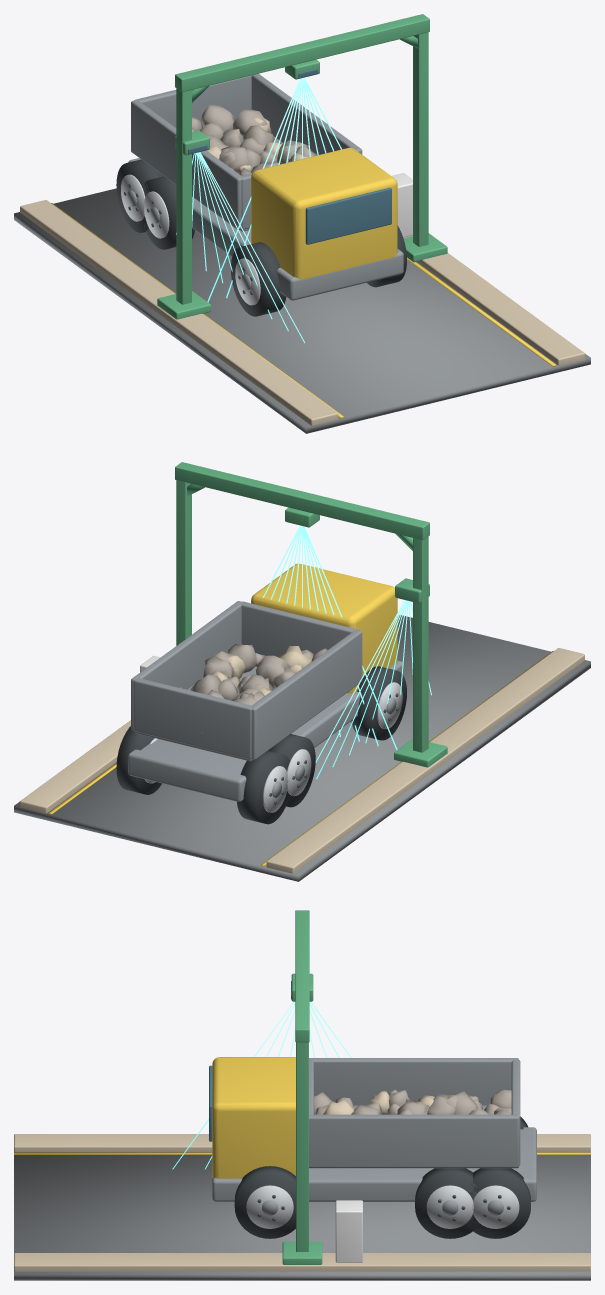
Rendered from truck-cargo-volume-estimation.glb.
The picture shows the model from 3 angles, top to bottom: view 1: azimuth 30°, elevation 25°; view 2: azimuth 150°, elevation 25°; view 3: azimuth 270°, elevation 25°; orthographic projection.
Visible parts, largest first — view 1: Road, Cab_0019, Curb_0002, Crossbeam_0012, Sidewall_0112, Curb_0004, Chassis_0018, Sidewall_0113, Upright_0010, Upright_0007, Windshield_0020, Endwall_0115 (+11 smaller); view 2: Road, Curb_0002, Cab_0019, Chassis_0018, Endwall_0115, Sidewall_0112, Crossbeam_0012, Sidewall_0113, Endwall_0114, Upright_0007, Curb_0004, Upright_0010 (+9 smaller); view 3: Road, Sidewall_0113, Curb_0004, Cab_0019, Sidewall_0112, Chassis_0018, Curb_0002, Upright_0010, Tire_0066, Tire_0081, Tire_0096, Crossbeam_0012 (+7 smaller).
Part boxes in pixels (box(x1,y1,x2,y2)): Road: box(14, 188, 590, 433); Cab_0019: box(251, 147, 397, 279); Curb_0002: box(20, 200, 338, 425); Crossbeam_0012: box(175, 14, 429, 92); Sidewall_0112: box(131, 100, 241, 229); Curb_0004: box(403, 235, 584, 365); Chassis_0018: box(128, 158, 403, 300); Sidewall_0113: box(251, 73, 362, 154); Upright_0010: box(413, 32, 428, 246); Upright_0007: box(176, 88, 191, 304); Windshield_0020: box(305, 187, 391, 244); Endwall_0115: box(135, 75, 251, 127); Road: box(14, 615, 590, 881); Curb_0002: box(266, 648, 584, 873); Cab_0019: box(251, 563, 397, 693); Chassis_0018: box(128, 660, 403, 801); Endwall_0115: box(133, 678, 252, 759); Sidewall_0112: box(251, 630, 362, 759); Crossbeam_0012: box(175, 462, 429, 540); Sidewall_0113: box(131, 601, 241, 730); Endwall_0114: box(241, 601, 358, 656); Upright_0007: box(413, 536, 428, 752); Curb_0004: box(20, 720, 130, 813); Upright_0010: box(176, 480, 191, 645); Road: box(14, 1155, 590, 1280); Sidewall_0113: box(309, 1114, 519, 1167); Curb_0004: box(14, 1253, 590, 1271); Cab_0019: box(212, 1057, 295, 1178); Sidewall_0112: box(309, 1058, 518, 1105); Chassis_0018: box(212, 1127, 536, 1201); Curb_0002: box(14, 1134, 590, 1152); Upright_0010: box(296, 1042, 308, 1251); Tire_0066: box(234, 1166, 295, 1238); Tire_0081: box(415, 1168, 480, 1238); Tire_0096: box(466, 1168, 530, 1238); Crossbeam_0012: box(295, 910, 309, 1042).
Size of the model in its own units: 4.5 by 3.71 by 8.
